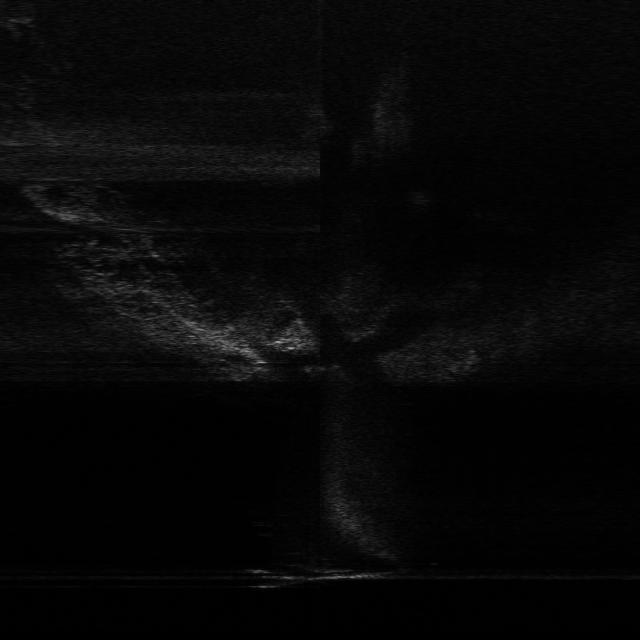plane: (240, 562, 404, 589)
